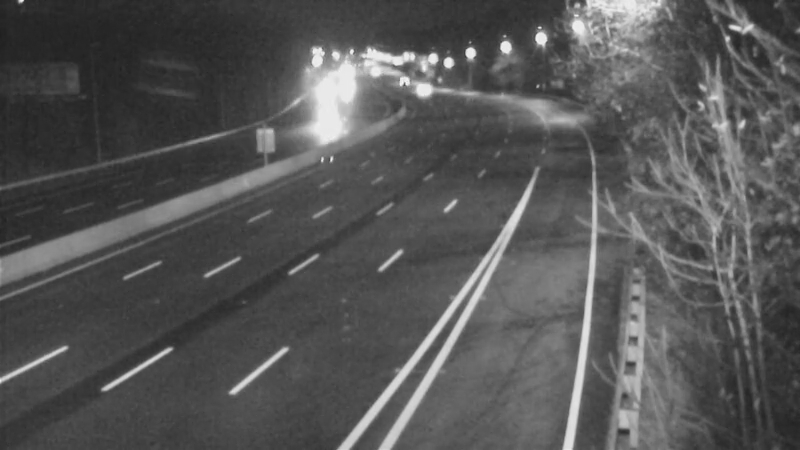vehicle: (376, 53, 426, 103), (397, 63, 447, 113), (292, 101, 342, 151)
